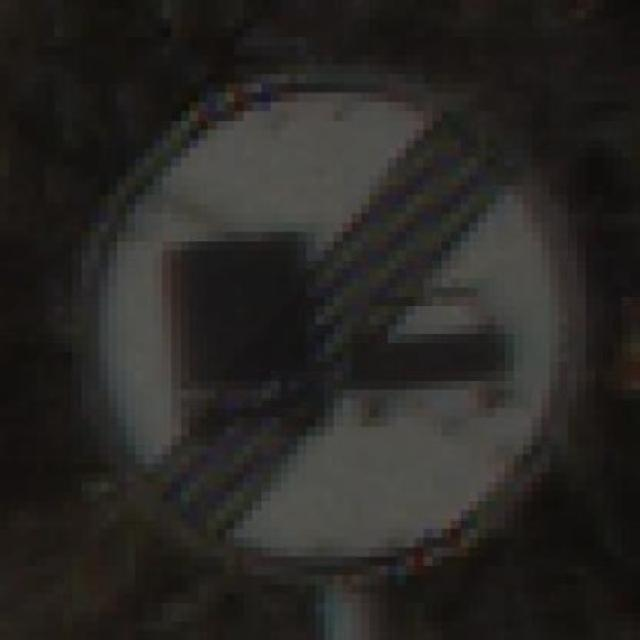Overtaking by trucks is prohibited: (45, 65, 604, 593)
